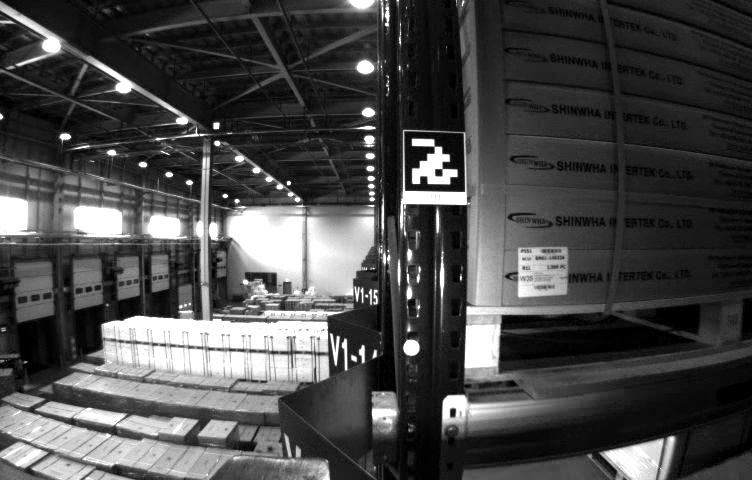True Barcode: (519, 245, 569, 296)
